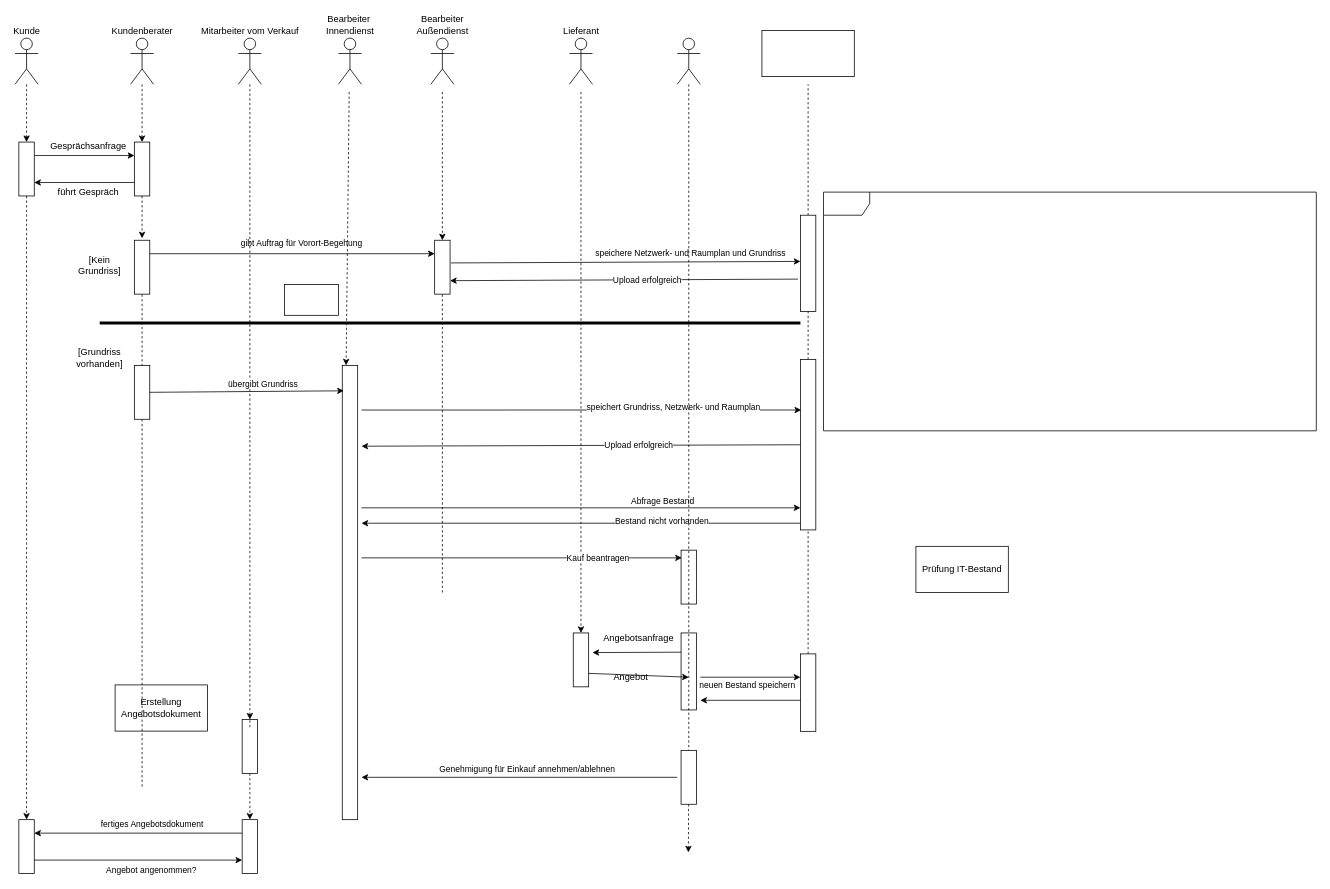
The diagram is 1330 pixels wide and 889 high, and some of its shapes have lost their labels. Each missing label, with the box of its shape:
Datenbank: (761, 30, 854, 77)
Erstellung Netzwerkplan: (284, 284, 338, 315)
Mitarbeiter vom Einkauf: (676, 37, 700, 84)
Netzwerkplan: (823, 191, 1316, 431)
